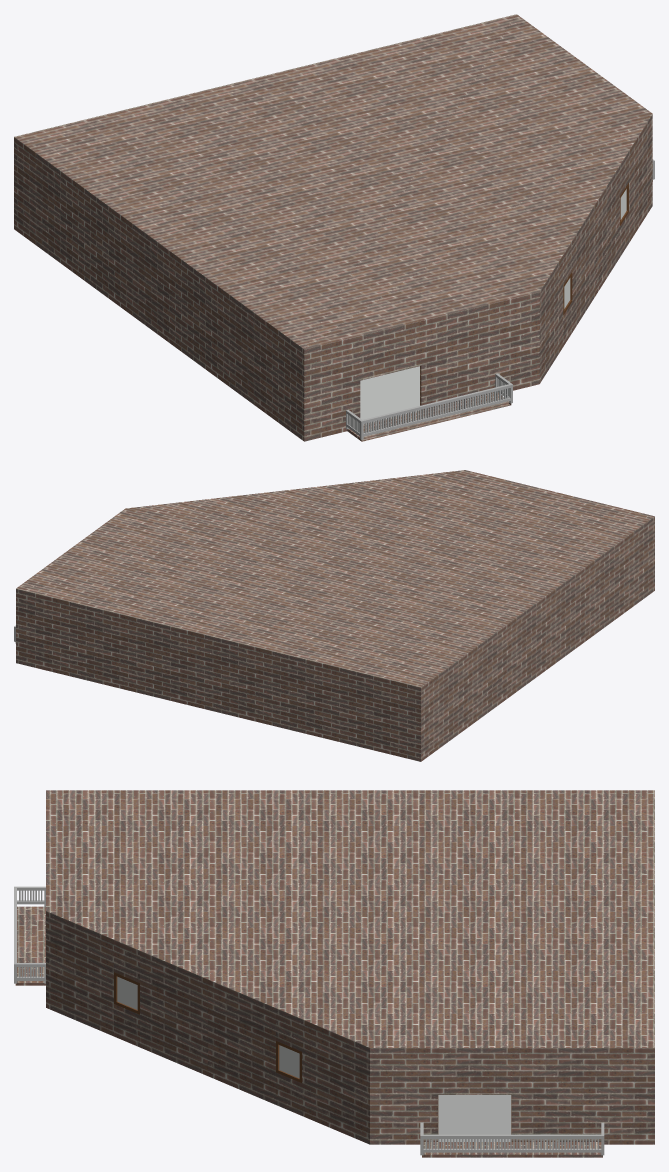
File: Piso.fbx
3 views of the same model, one above another, from view 1: azimuth 30°, elevation 25°; view 2: azimuth 150°, elevation 25°; view 3: azimuth 270°, elevation 25° (orthographic). The views are drawn at different scales.
Visible parts, largest first — view 1: building_017.002; view 2: building_017.002; view 3: building_017.002.
Part boxes in pixels (x1,y1,x2,y2): building_017.002: (14, 14, 654, 441); building_017.002: (14, 470, 654, 761); building_017.002: (14, 790, 654, 1157).
Bounding box in the file's own units: 2105 × 351 × 2105.
2 materials, 2 textured.
